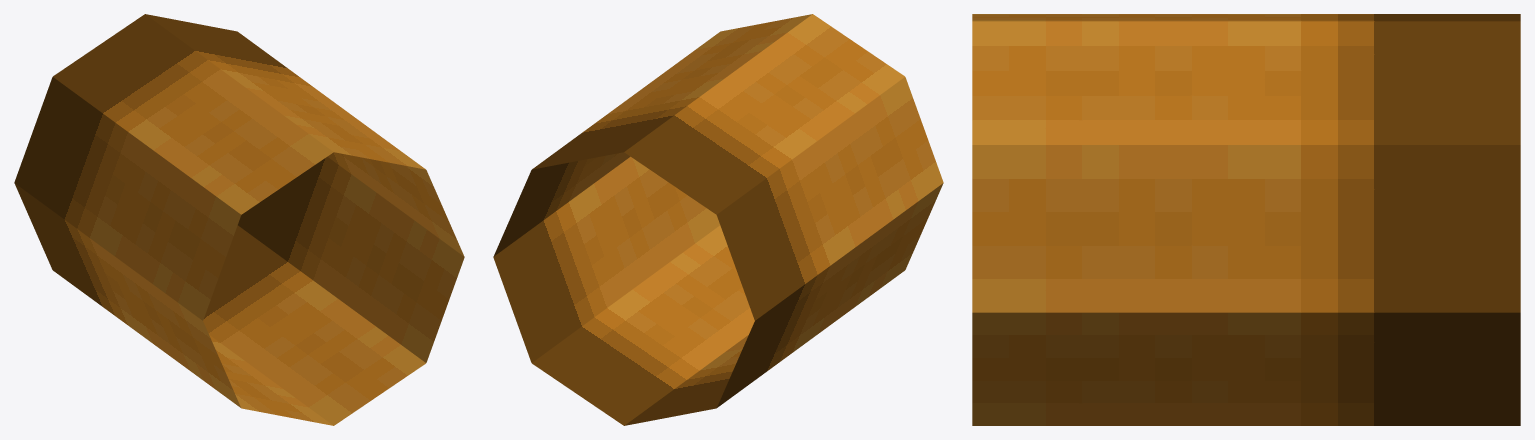
Rendered from ss_pipe_straight_1f_prone.obj.
3 renders of one model, left to right at view 1: azimuth 30°, elevation 25°; view 2: azimuth 150°, elevation 25°; view 3: azimuth 270°, elevation 25°, orthographic. The views are drawn at different scales.
Visible parts, largest first — view 1: ss_pipe_straight_1f_prone_Cylinder.002; view 2: ss_pipe_straight_1f_prone_Cylinder.002; view 3: ss_pipe_straight_1f_prone_Cylinder.002.
Boxes of the visible parts, left/top/right/bottom form: ss_pipe_straight_1f_prone_Cylinder.002: left=14, top=14, right=464, bottom=425; ss_pipe_straight_1f_prone_Cylinder.002: left=493, top=14, right=943, bottom=425; ss_pipe_straight_1f_prone_Cylinder.002: left=972, top=14, right=1520, bottom=425.
Bounding box in the file's own units: 0.75 × 0.75 × 0.9375.
